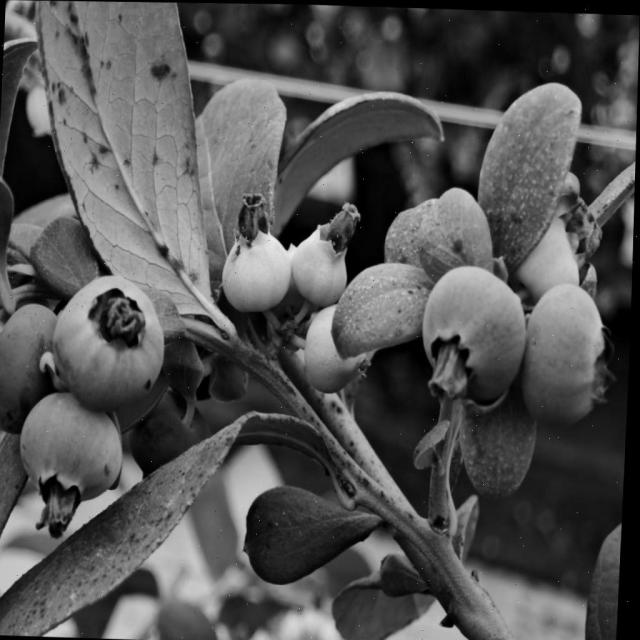RipeBlueBerry: (50, 270, 172, 412), (419, 261, 533, 404), (0, 296, 61, 438)
Semi-RipeBlueBerry: (522, 278, 618, 428), (19, 390, 130, 506)
UnripeBlueBerry: (514, 202, 598, 296), (216, 224, 290, 316), (306, 306, 373, 396), (291, 221, 351, 308)
